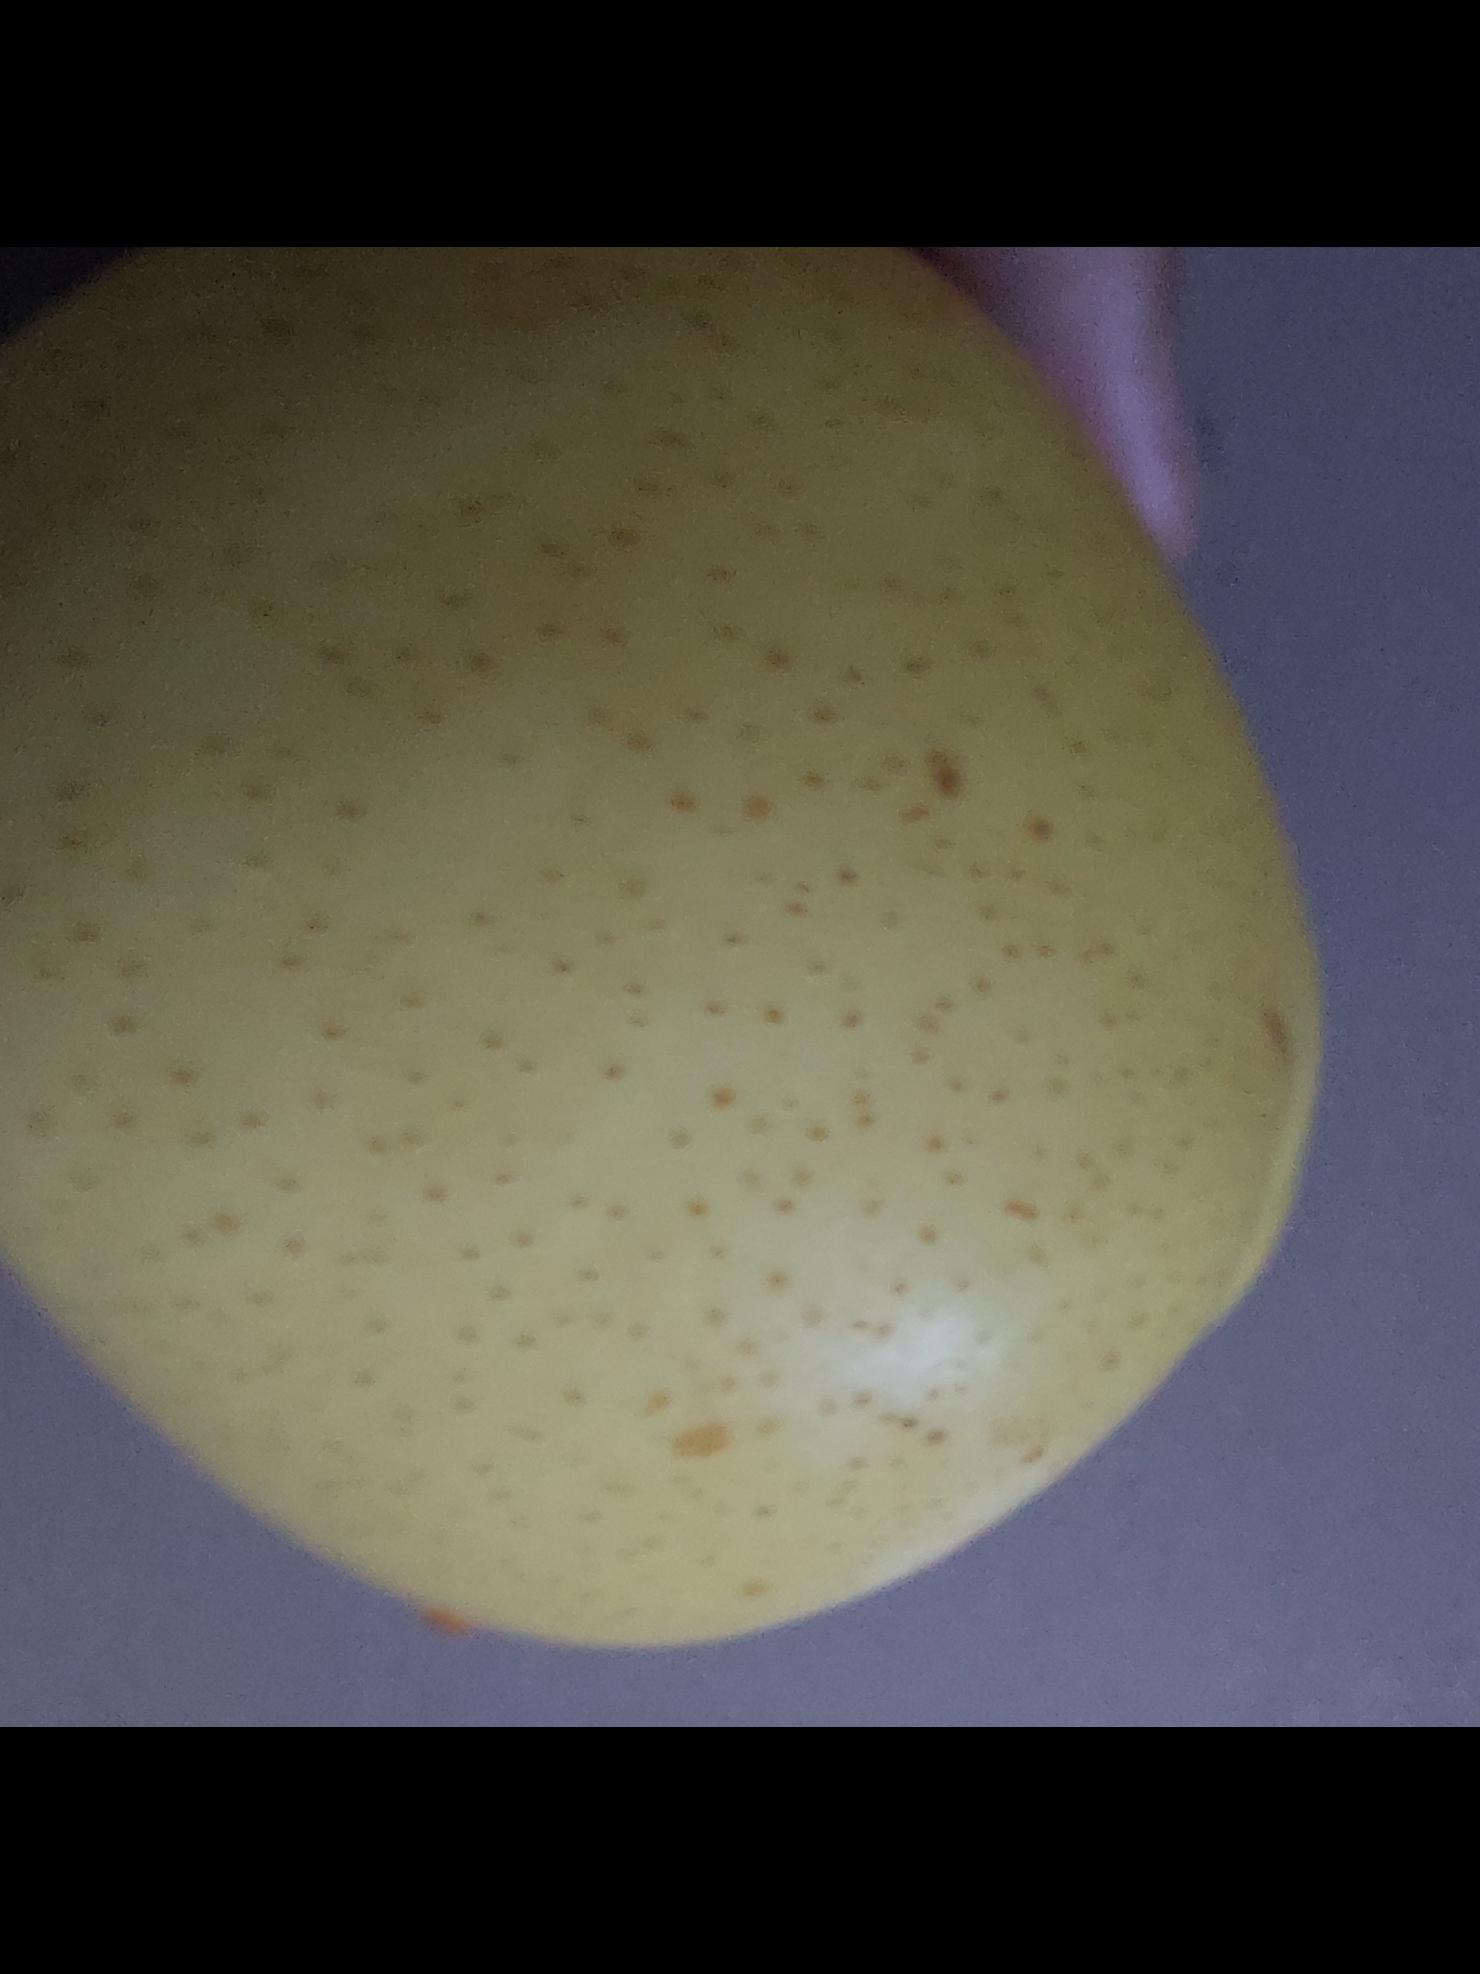Good Pear: (0, 247, 1337, 1657)
